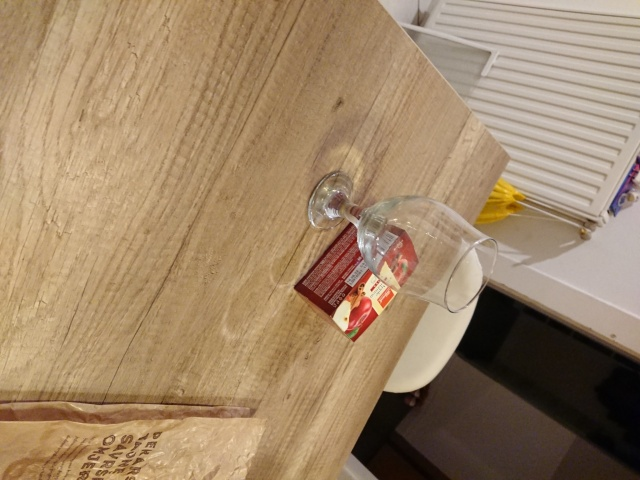Franck Apple Cinnamon Tea 60g: (290, 208, 422, 346)
